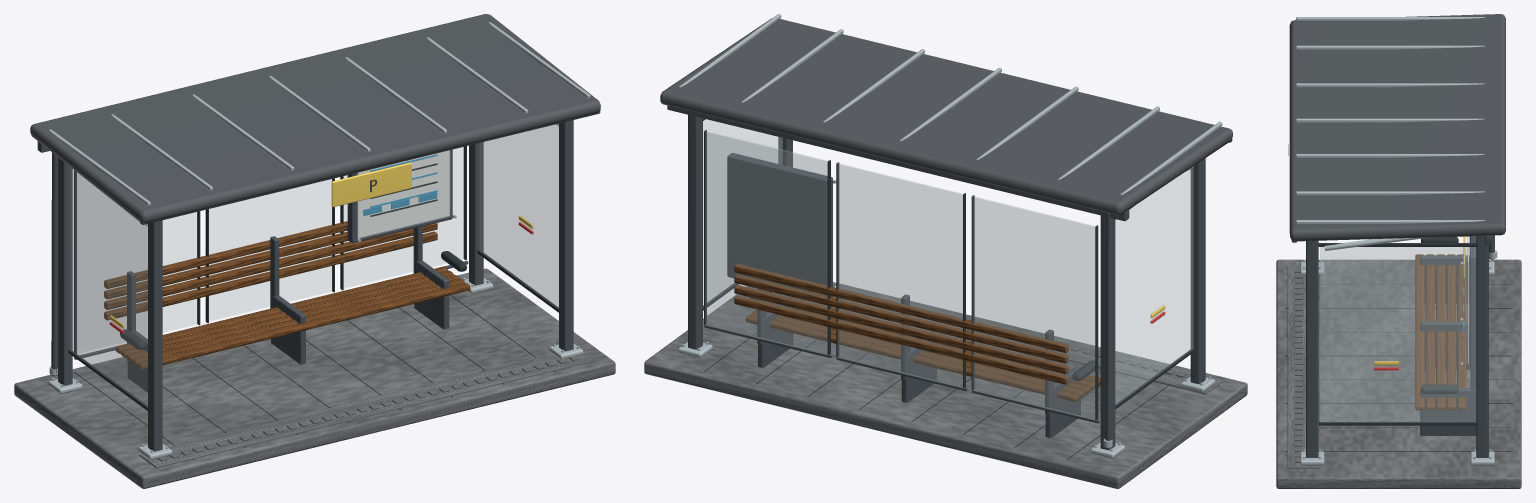
File: prawko_wiata_przystankowa.glb
3 renders of one model, left to right at view 1: azimuth 30°, elevation 25°; view 2: azimuth 150°, elevation 25°; view 3: azimuth 270°, elevation 25°, orthographic. The views are drawn at different scales.
Parts seen in each view (by area): view 1: C00 Roof integrated sandwich panel, A00 Concrete paved pad 4.96m, D03 L side safety glazing, D03 R side safety glazing, D00 Rear glass laminated pane 0, D00 Rear glass laminated pane 1, A01 Boarded tactile strip, D00 Rear glass laminated pane 2, F01 Timetable white sheet, F02 Timetable glass cover, B00 R front vertical steel column, B00 L front vertical steel column (+17 smaller); view 2: C00 Roof integrated sandwich panel, A00 Concrete paved pad 4.96m, D00 Rear glass laminated pane 2, D00 Rear glass laminated pane 0, D00 Rear glass laminated pane 1, D03 L side safety glazing, F00 Timetable frame, D03 R side safety glazing, B00 L front vertical steel column, B00 R rear vertical steel column, E03 Bench hardwood backrest 2, E03 Bench hardwood backrest 0 (+15 smaller); view 3: C00 Roof integrated sandwich panel, A00 Concrete paved pad 4.96m, D03 R side safety glazing, A01 Boarded tactile strip, B00 R rear vertical steel column, B00 R front vertical steel column, E00 Bench frame leg 1.5, E02 Bench hardwood seat slat 0, E02 Bench hardwood seat slat 2, E02 Bench hardwood seat slat 3, E02 Bench hardwood seat slat 1, E02 Bench hardwood seat slat 4 (+16 smaller).
Boxes of the visible parts, <box> form: C00 Roof integrated sandwich panel: <box>30,14,600,223</box>; A00 Concrete paved pad 4.96m: <box>14,268,615,488</box>; D03 L side safety glazing: <box>69,166,147,406</box>; D03 R side safety glazing: <box>478,124,558,308</box>; D00 Rear glass laminated pane 0: <box>77,173,197,353</box>; D00 Rear glass laminated pane 1: <box>209,179,332,321</box>; A01 Boarded tactile strip: <box>139,353,590,468</box>; D00 Rear glass laminated pane 2: <box>344,147,463,288</box>; F01 Timetable white sheet: <box>357,150,449,237</box>; F02 Timetable glass cover: <box>359,150,450,238</box>; B00 R front vertical steel column: <box>559,120,573,351</box>; B00 L front vertical steel column: <box>148,220,162,451</box>; C00 Roof integrated sandwich panel: <box>660,18,1232,215</box>; A00 Concrete paved pad 4.96m: <box>644,282,1247,488</box>; D00 Rear glass laminated pane 2: <box>705,131,827,354</box>; D00 Rear glass laminated pane 0: <box>972,196,1095,419</box>; D00 Rear glass laminated pane 1: <box>837,163,962,387</box>; D03 L side safety glazing: <box>1115,168,1193,405</box>; F00 Timetable frame: <box>727,153,832,297</box>; D03 R side safety glazing: <box>703,119,782,306</box>; B00 L front vertical steel column: <box>1190,158,1205,384</box>; B00 R rear vertical steel column: <box>688,115,702,357</box>; E03 Bench hardwood backrest 2: <box>734,274,1068,363</box>; E03 Bench hardwood backrest 0: <box>734,295,1068,384</box>; C00 Roof integrated sandwich panel: <box>1289,14,1505,241</box>; A00 Concrete paved pad 4.96m: <box>1276,259,1521,488</box>; D03 R side safety glazing: <box>1320,247,1475,422</box>; A01 Boarded tactile strip: <box>1287,266,1319,468</box>; B00 R rear vertical steel column: <box>1476,235,1488,457</box>; B00 R front vertical steel column: <box>1306,240,1318,457</box>; E00 Bench frame leg 1.5: <box>1420,387,1476,435</box>; E02 Bench hardwood seat slat 0: <box>1415,254,1424,410</box>; E02 Bench hardwood seat slat 2: <box>1436,254,1445,410</box>; E02 Bench hardwood seat slat 3: <box>1446,254,1455,410</box>; E02 Bench hardwood seat slat 1: <box>1425,254,1434,410</box>; E02 Bench hardwood seat slat 4: <box>1457,254,1466,410</box>.
Bounding box in the file's own units: 4.96 × 2.77 × 2.35.
Materials: 12 (2 with a texture image).
